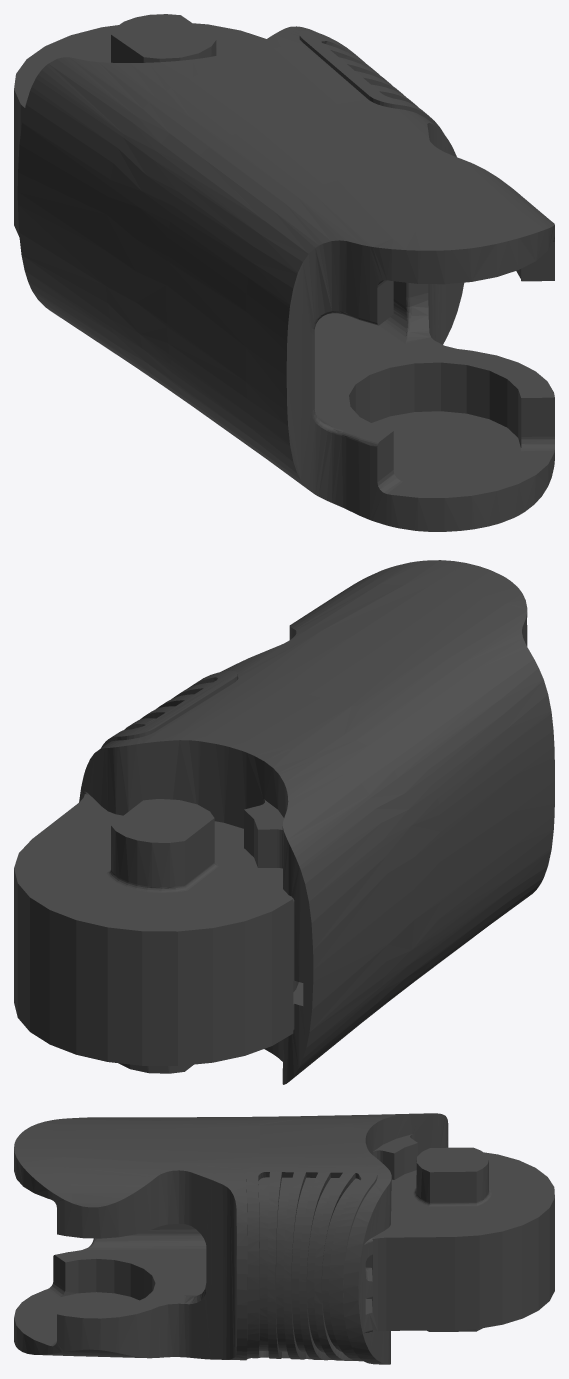
The model's file is lh_pinky_middle_vis.obj.
The picture shows the model from 3 angles, top to bottom: view 1: azimuth 30°, elevation 25°; view 2: azimuth 150°, elevation 25°; view 3: azimuth 270°, elevation 25°; orthographic projection. The views are drawn at different scales.
Parts seen in each view (by area): view 1: lh_pinky_middle; view 2: lh_pinky_middle; view 3: lh_pinky_middle.
Boxes of the visible parts, x1,y1,x2,y2 form: lh_pinky_middle: [14, 14, 554, 531]; lh_pinky_middle: [14, 560, 554, 1084]; lh_pinky_middle: [14, 1113, 554, 1364].
Bounding box in the file's own units: 0.0164 × 0.015 × 0.0368.
1 material, 1 textured.
